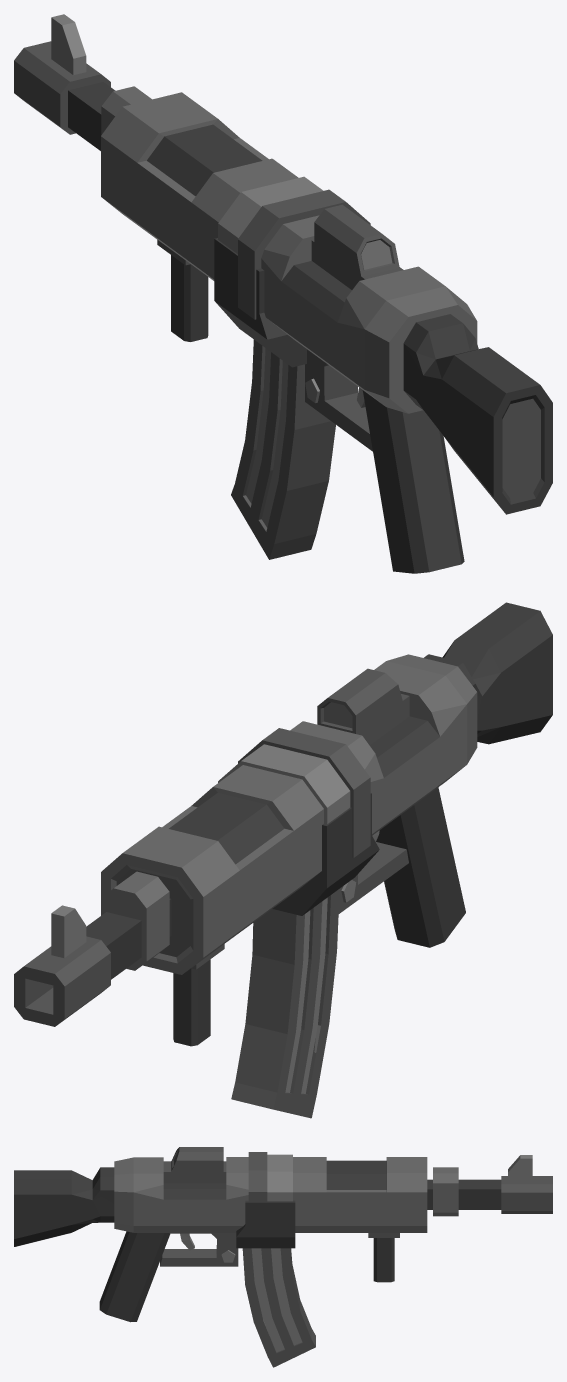
Rendered from subfusil_2.glb.
The picture shows the model from 3 angles, top to bottom: view 1: azimuth 30°, elevation 25°; view 2: azimuth 150°, elevation 25°; view 3: azimuth 270°, elevation 25°; orthographic projection. The views are drawn at different scales.
Visible parts, largest first — view 1: subfusil_2, subfusil_charguer_2, subfusil_scope_2, subfusil_handle_2; view 2: subfusil_2, subfusil_charguer_2, subfusil_scope_2, subfusil_handle_2; view 3: subfusil_2, subfusil_charguer_2, subfusil_scope_2, subfusil_handle_2.
Boxes of the visible parts, x1=… form: subfusil_2: x1=14, y1=14, x2=552, y2=573; subfusil_charguer_2: x1=231, y1=339, x2=335, y2=559; subfusil_scope_2: x1=311, y1=204, x2=403, y2=289; subfusil_handle_2: x1=157, y1=240, x2=208, y2=341; subfusil_2: x1=14, y1=602, x2=552, y2=1026; subfusil_charguer_2: x1=231, y1=889, x2=339, y2=1118; subfusil_scope_2: x1=317, y1=668, x2=409, y2=745; subfusil_handle_2: x1=173, y1=944, x2=224, y2=1046; subfusil_2: x1=14, y1=1152, x2=552, y2=1322; subfusil_charguer_2: x1=242, y1=1248, x2=315, y2=1367; subfusil_scope_2: x1=163, y1=1147, x2=226, y2=1183; subfusil_handle_2: x1=368, y1=1233, x2=399, y2=1282.
Size of the model in its own units: 0.3748 by 1.17 by 2.69.
Materials: 1 (1 with a texture image).
